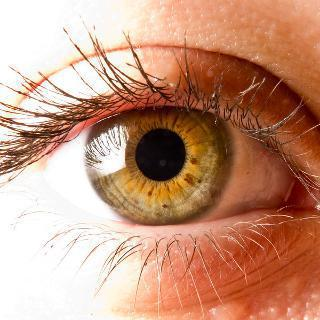iris: (84, 78, 236, 229)
